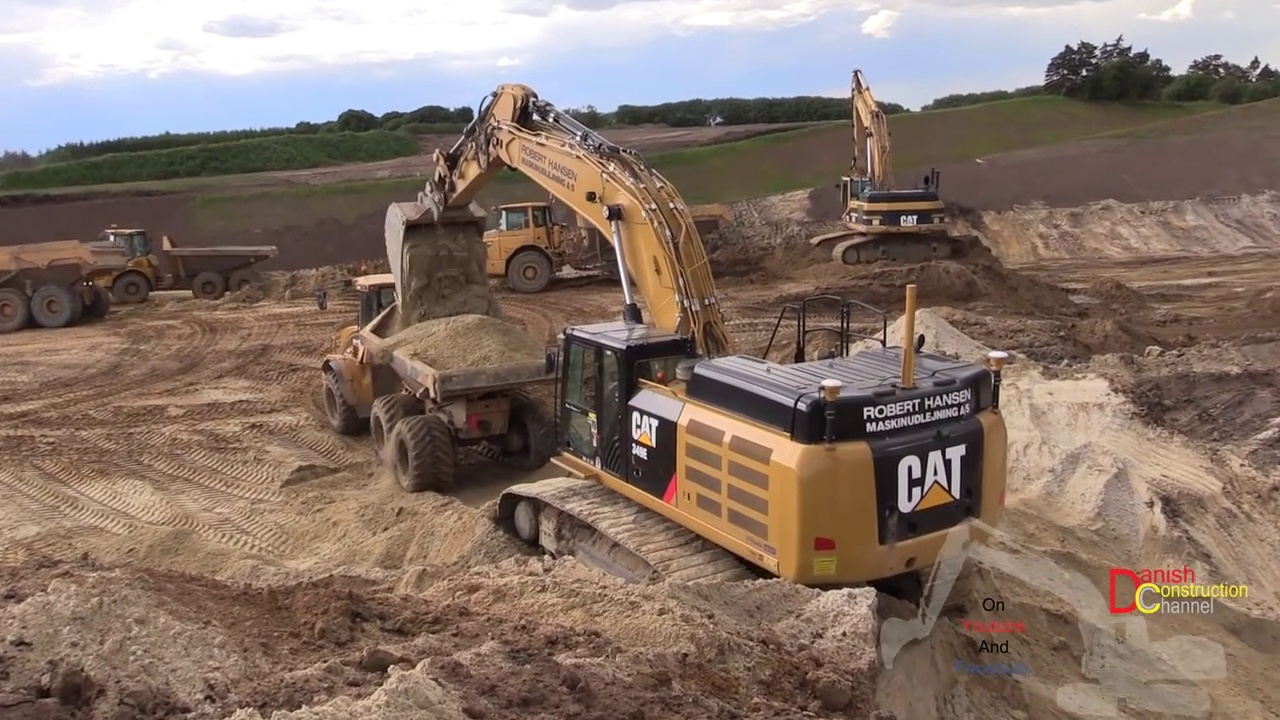dumper: (323, 274, 556, 487), (489, 205, 743, 287), (101, 224, 278, 295), (1, 242, 121, 327)
excavator: (381, 83, 1014, 621), (808, 67, 960, 273)
